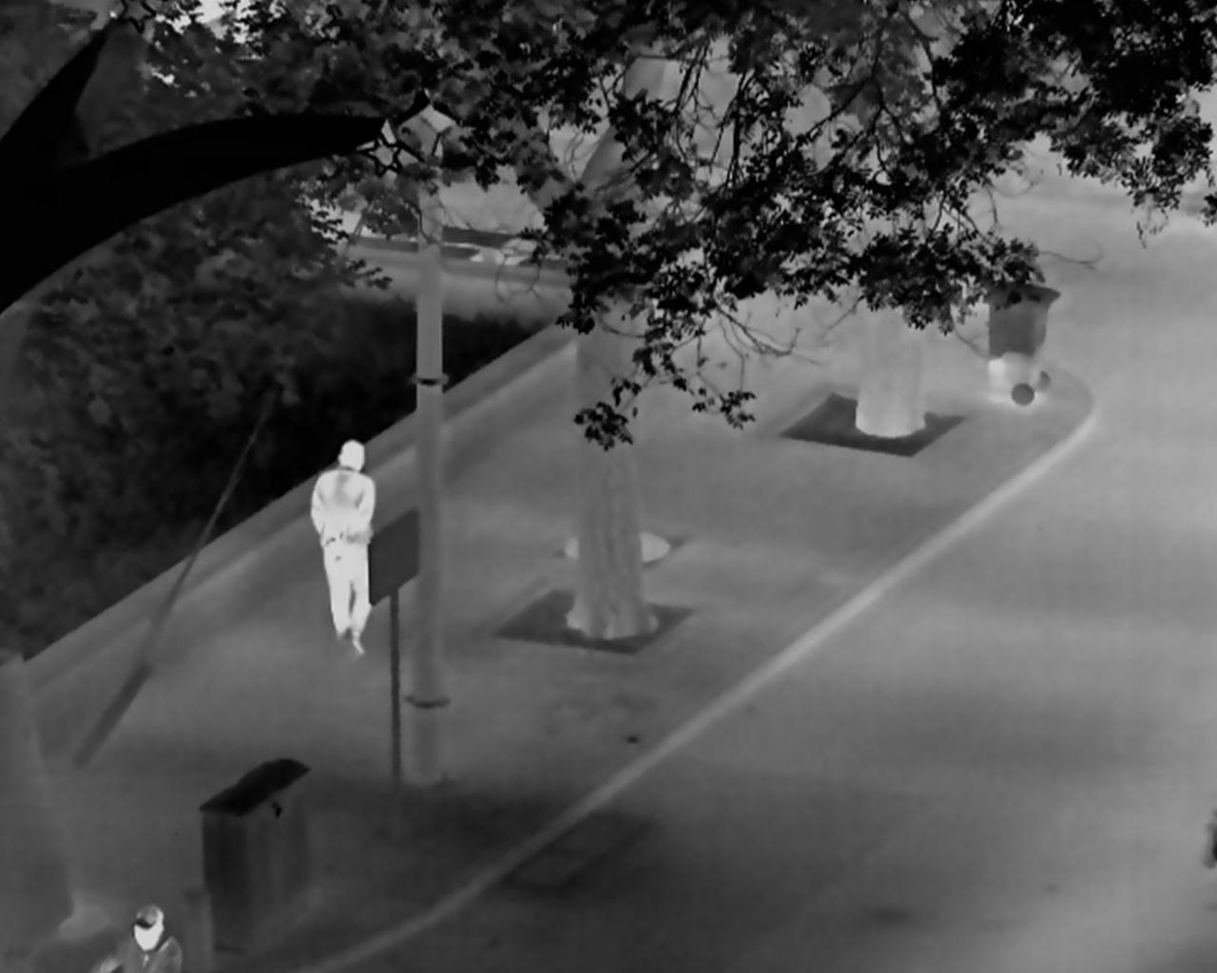person: (308, 438, 371, 655), (91, 904, 184, 973)
